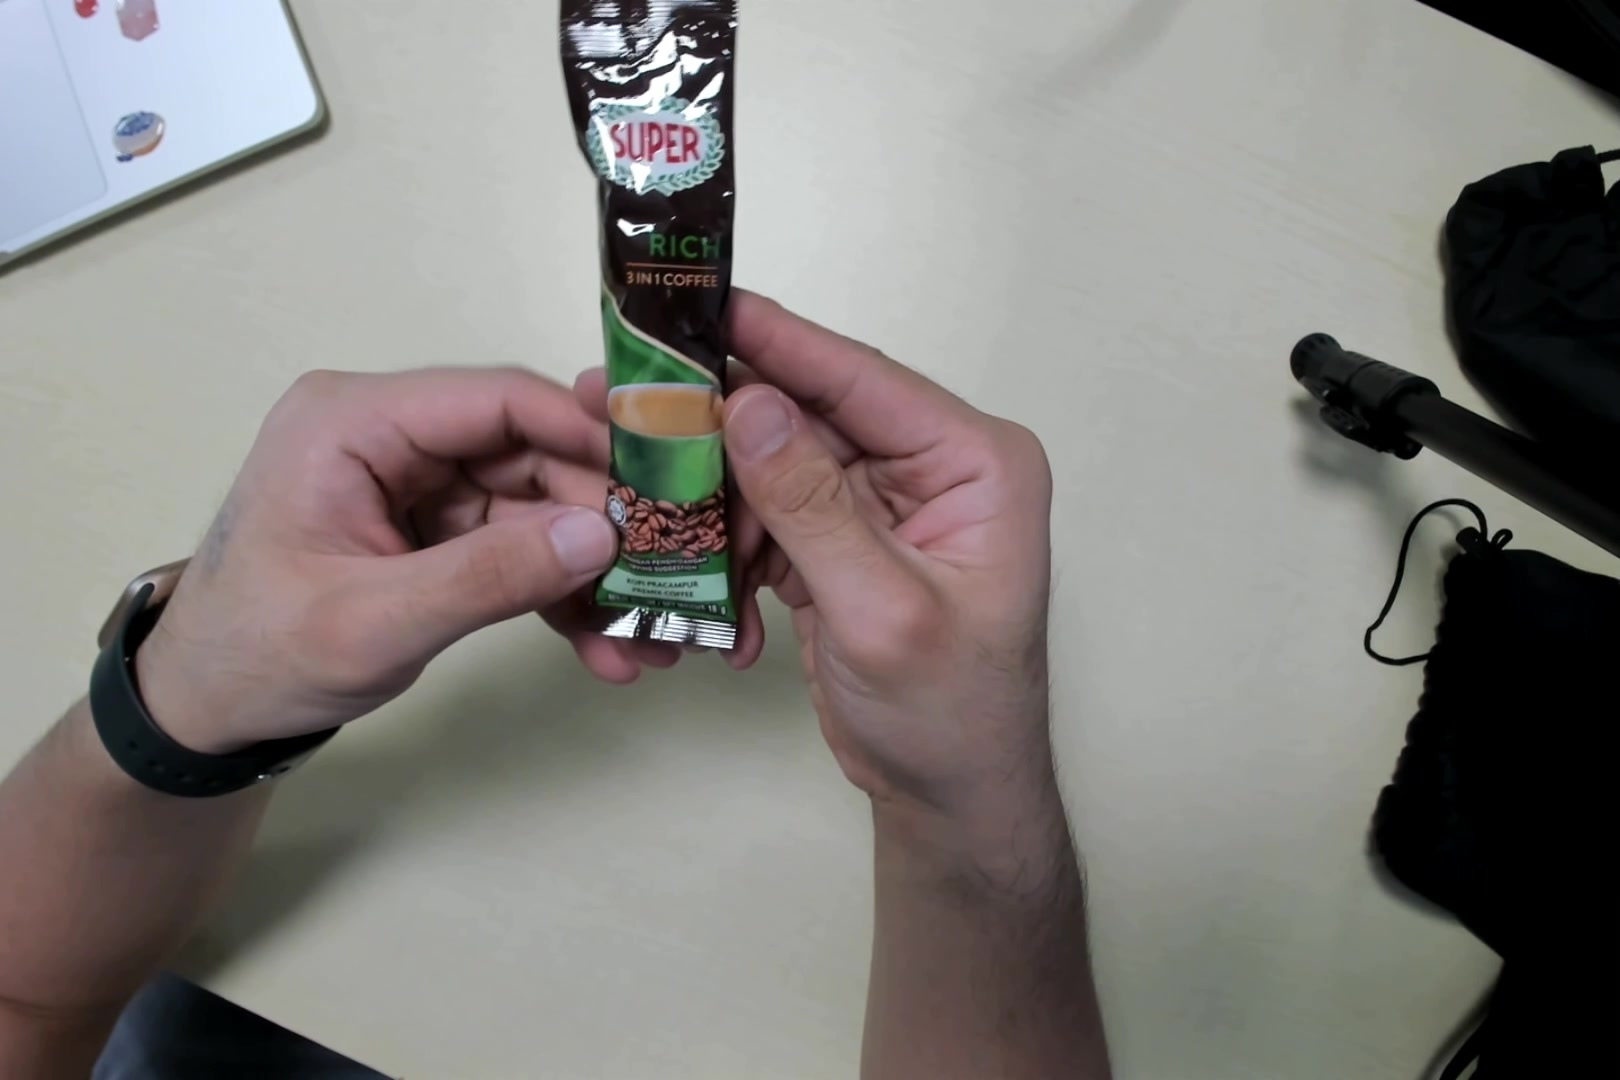Coffee(Powder)_0-99g_Halal_NonHealthy: (585, 1, 734, 639)
